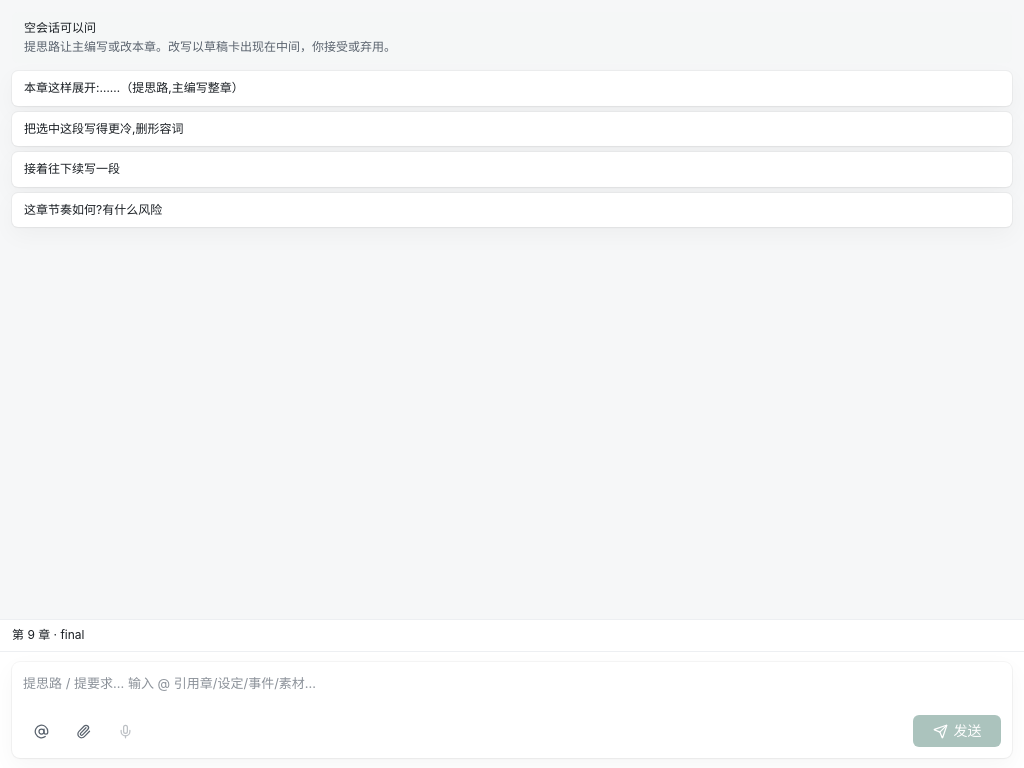
Test: WriteChat 章内 run 绑发起时上下文(I-1a) › 过期焦点审批(run_context_changed)在章内槽也展示已过期并作废
The width and height of the screenshot is (1024, 768).
Type "请登记伏笔" into the text box with placeholder "提思路 / 提要求… 输入 @ 引用章/设定/事件/素材…" at (512, 689), box [23, 671, 1001, 707]
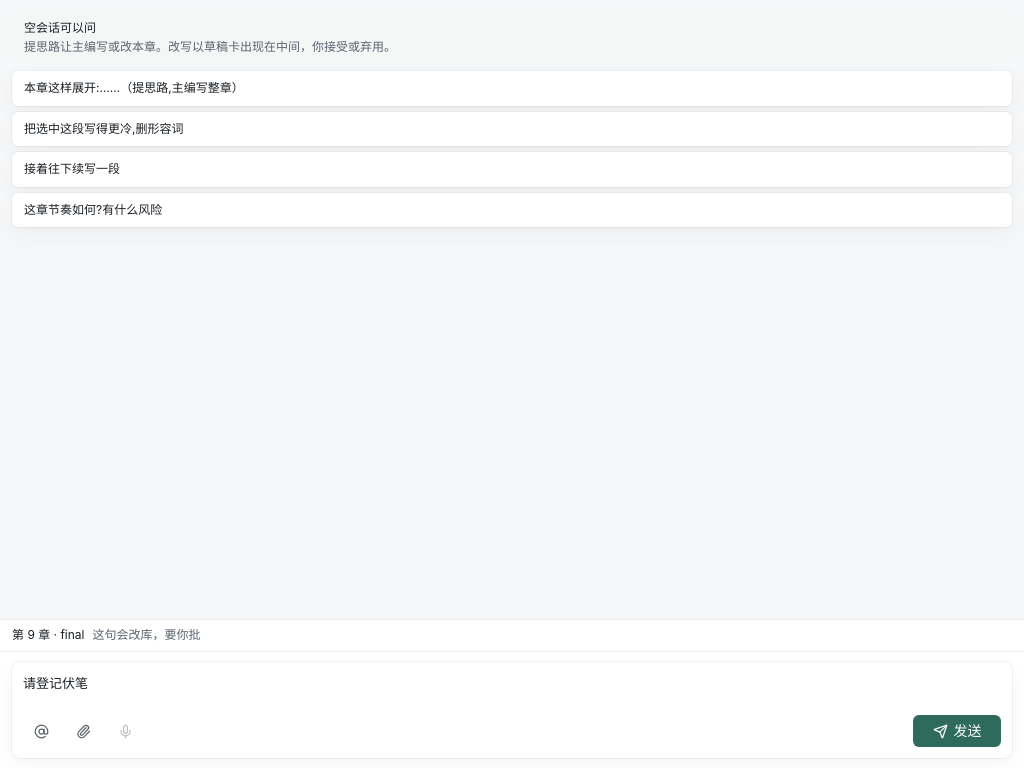
Click the button "发送" at (957, 731), box [913, 715, 1001, 747]
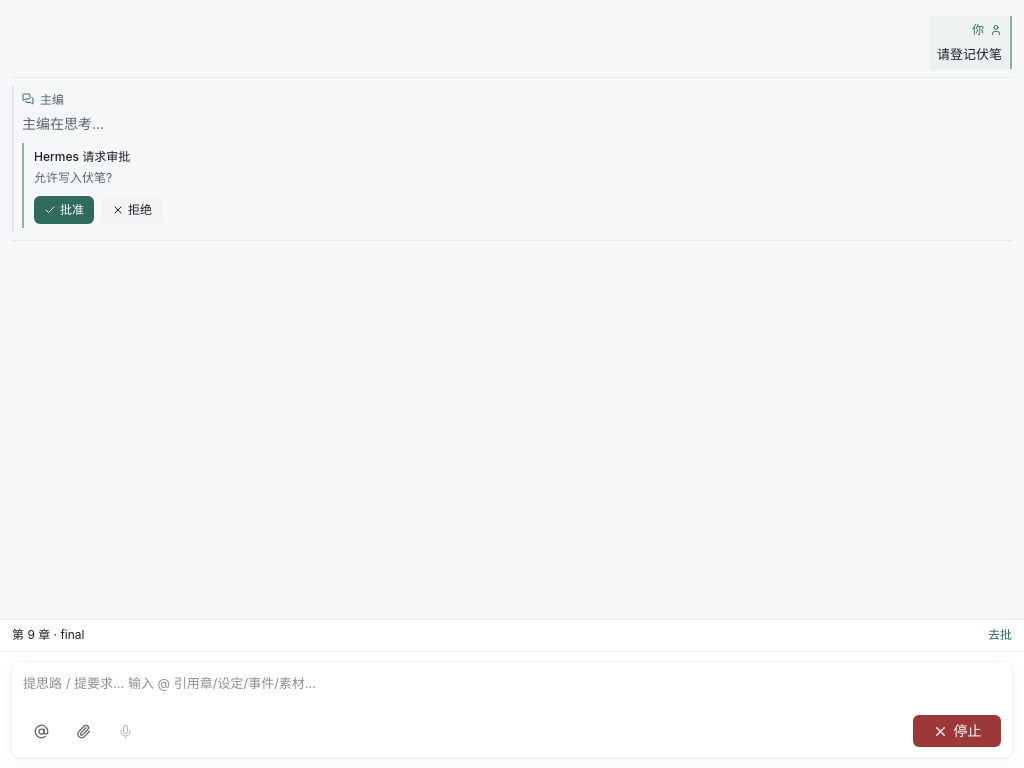
Expected: the text "允许写入伏笔?" is shown, [34, 170, 112, 185]
Click the button "批准" at (64, 210), box [34, 196, 94, 224]
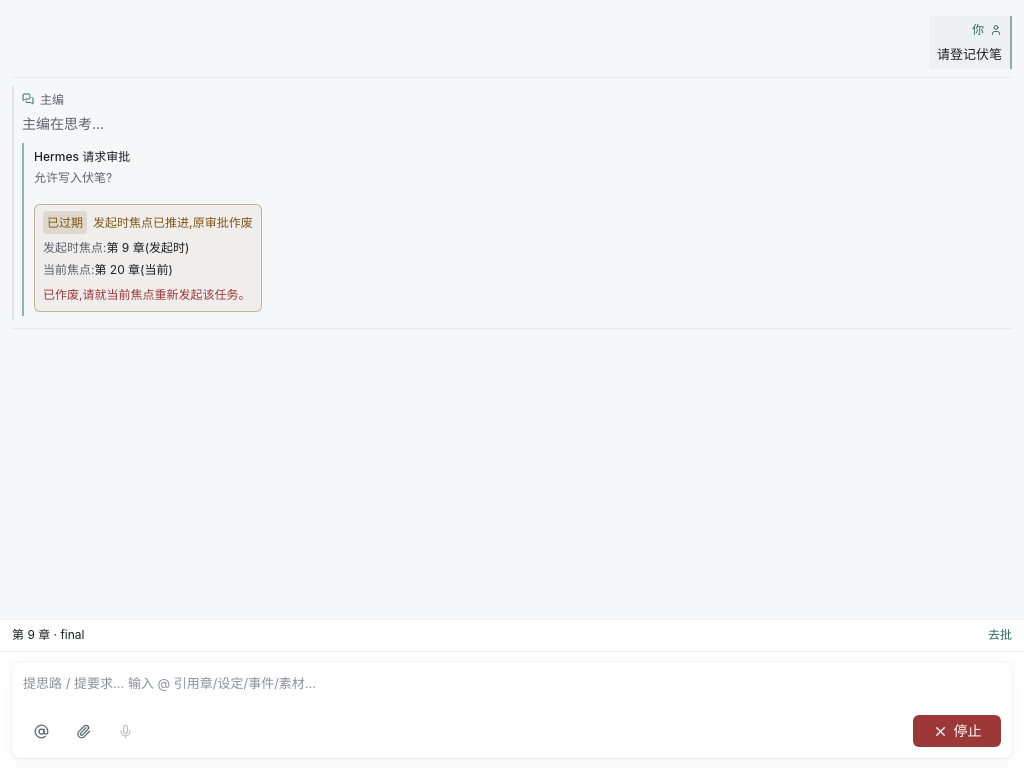
Expected: the element with test id "run-context-stale" is shown, [34, 204, 262, 312]
Expected: the text with test id "run-origin-focus" reads "第 9 章(发起时)", [106, 240, 190, 255]
Expected: the text with test id "run-current-focus" reads "第 20 章(当前)", [94, 262, 173, 277]
